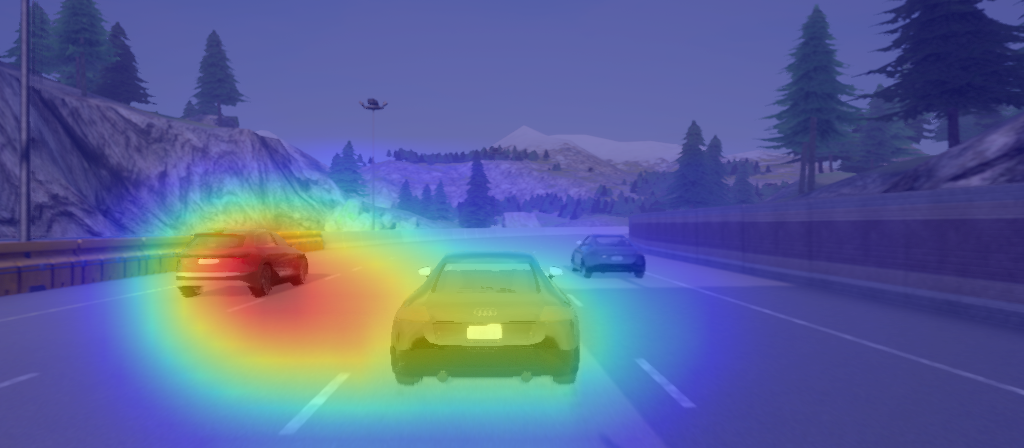Barrier: (667, 206, 1012, 268), (11, 239, 168, 277)
Car: (387, 248, 586, 390), (170, 224, 313, 302), (566, 233, 652, 284)
Lane Marker: (274, 368, 355, 436), (629, 351, 705, 417), (4, 365, 40, 394), (321, 270, 344, 284)
Light Pole: (357, 93, 392, 231), (17, 3, 36, 243)
